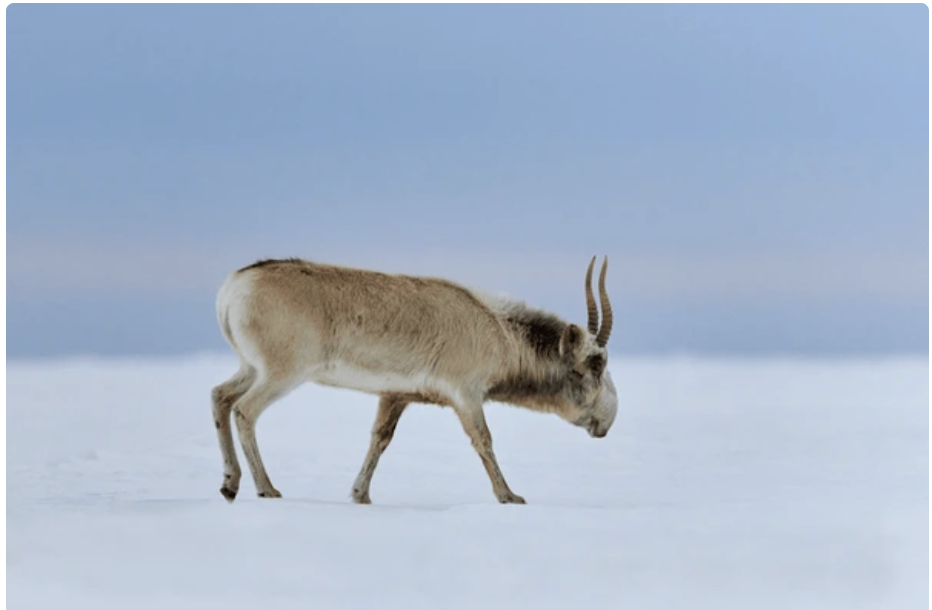saiga: (185, 245, 640, 555)
